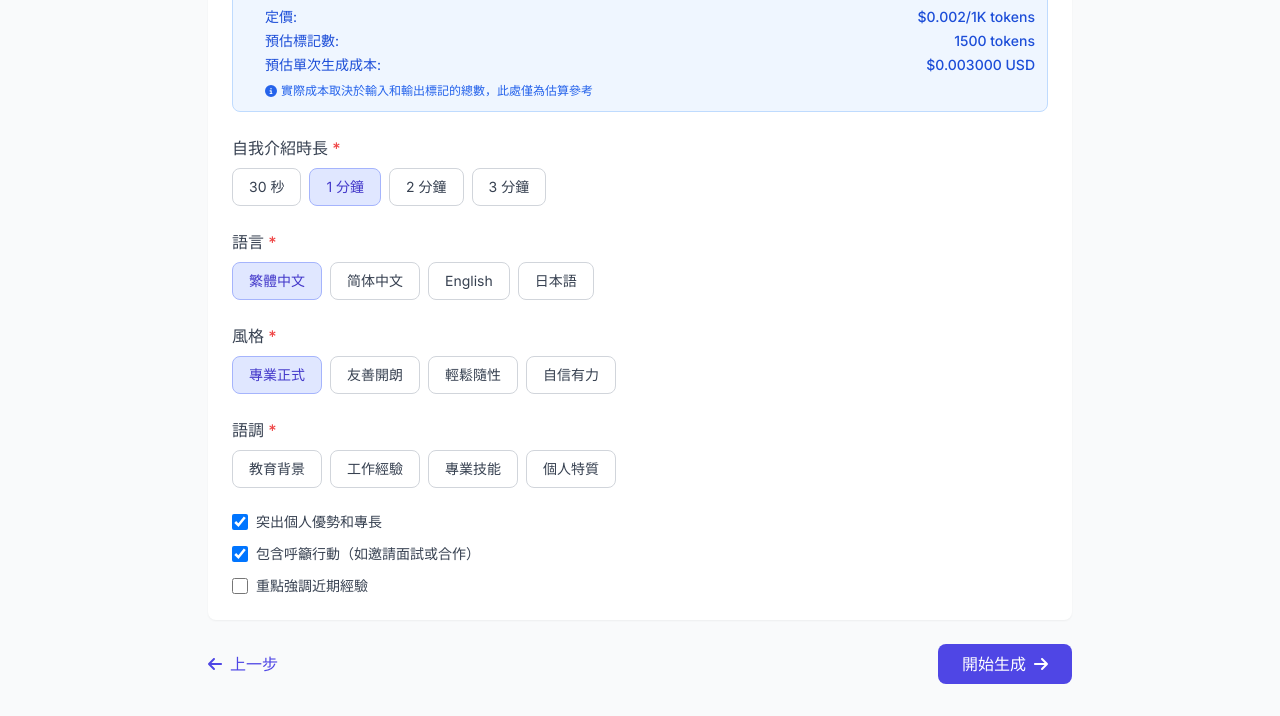
Test case: Form Page Validation › should check previous pages data when generating
The image size is (1280, 716).
(page scrolled)
Note: Find the generate button and click it
Click the button "開始生成" at (1005, 664), box top-left (938, 644), bottom-right (1072, 684)
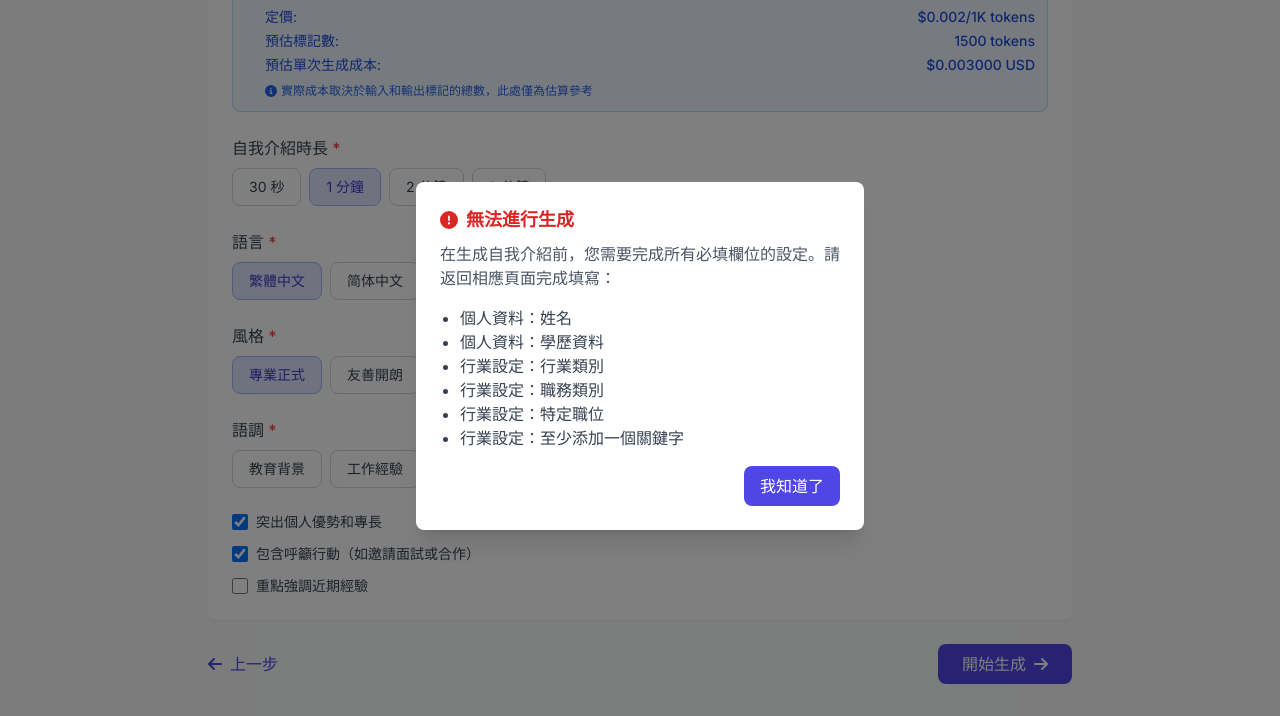
Check: the heading "無法進行生成" is shown, box top-left (440, 209), bottom-right (574, 230)
Check: the list item "個人資料：姓名" is shown, box top-left (460, 308), bottom-right (572, 328)
Check: the list item "行業設定：行業類別" is shown, box top-left (460, 356), bottom-right (604, 376)
